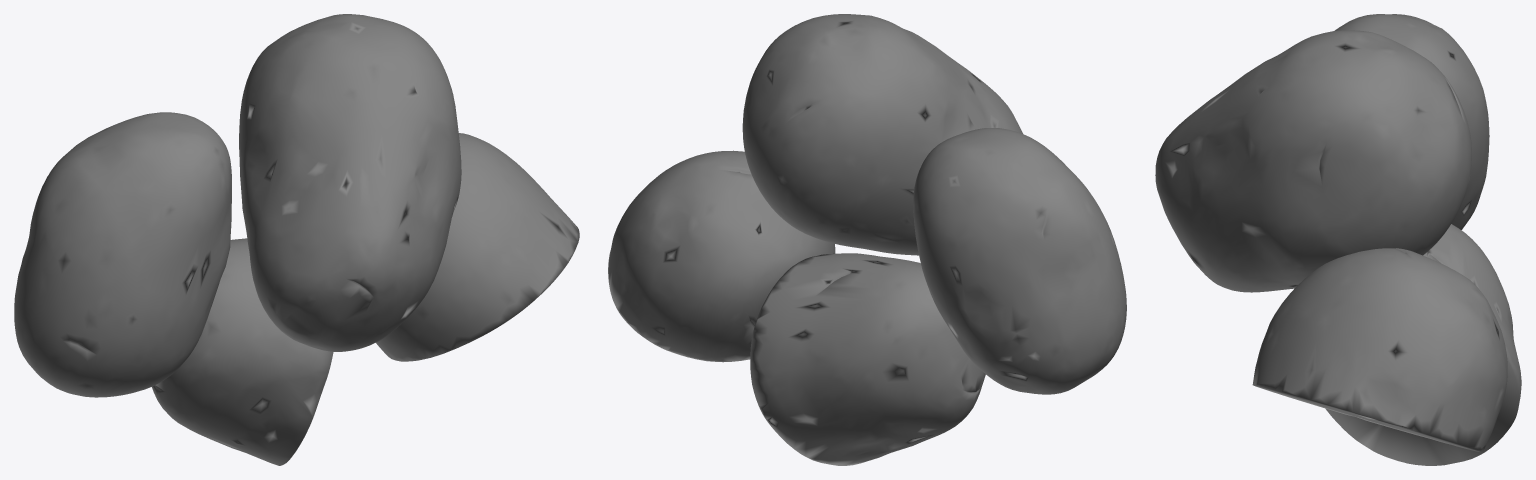
Rendered from potato.glb.
3 renders of one model, left to right at view 1: azimuth 30°, elevation 25°; view 2: azimuth 150°, elevation 25°; view 3: azimuth 270°, elevation 25°, orthographic. The views are drawn at different scales.
Parts seen in each view (by area): view 1: mesh_id4, mesh_id5, mesh_id7, mesh_id6; view 2: mesh_id5, mesh_id4, mesh_id6, mesh_id7; view 3: mesh_id4, mesh_id7, mesh_id6, mesh_id5.
Part boxes in pixels (x1,y1,x2,y2): mesh_id4: [239, 14, 461, 351]; mesh_id5: [14, 112, 231, 397]; mesh_id7: [376, 133, 579, 361]; mesh_id6: [152, 238, 333, 465]; mesh_id5: [913, 128, 1126, 394]; mesh_id4: [742, 14, 1022, 255]; mesh_id6: [750, 253, 985, 465]; mesh_id7: [608, 150, 835, 362]; mesh_id4: [1155, 30, 1471, 292]; mesh_id7: [1252, 248, 1507, 452]; mesh_id6: [1325, 224, 1521, 465]; mesh_id5: [1334, 14, 1489, 229].
Bounding box in the file's own units: 0.512 × 0.4026 × 0.3009.
Materials: 4 (4 with a texture image).
